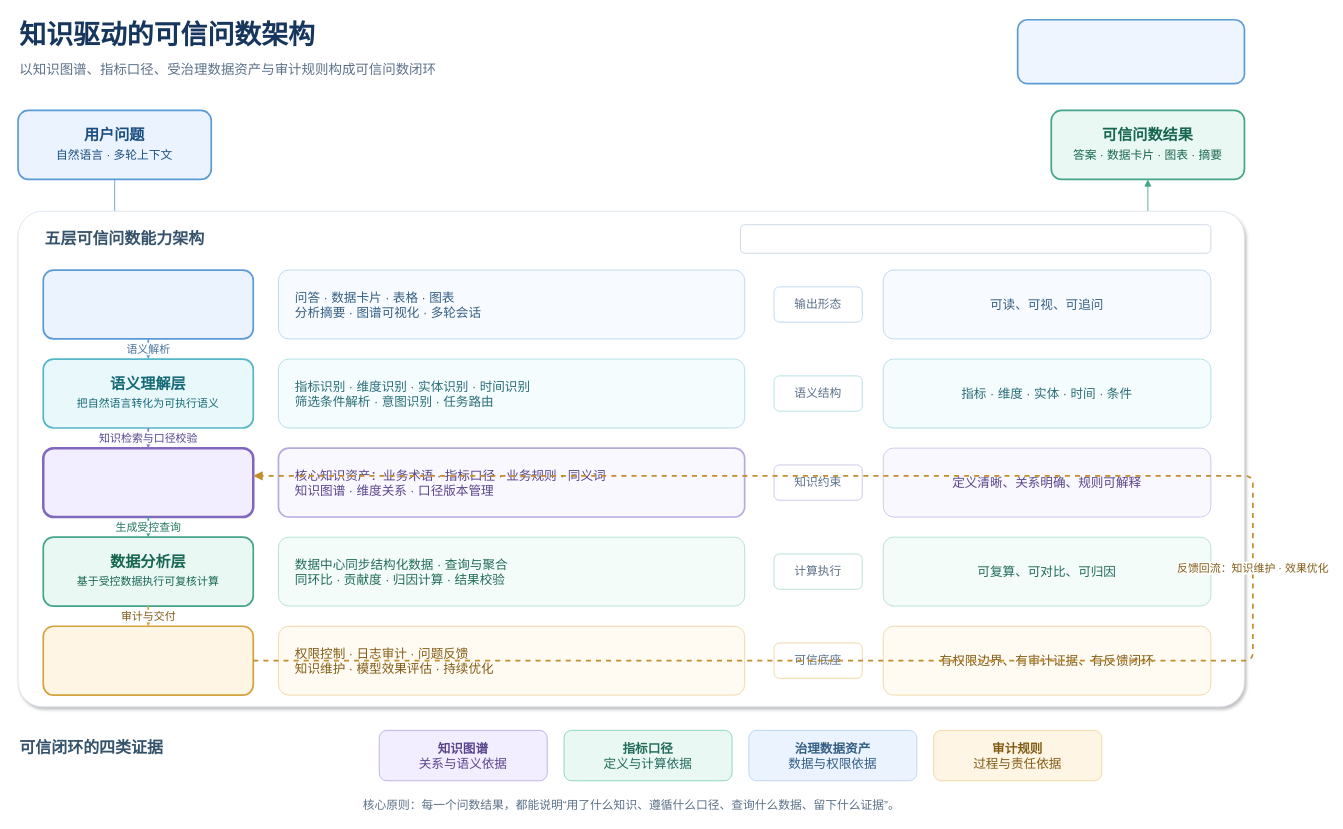
Image size: 1343x829. Some labels were removed from this diagram. The shapes that lost their labels are listed below. From the top down, each one's centre as x and y in pixels, then its label:
At (x=1130, y=51): "科学知识驱动 可解释 · 可验证 · 可追溯".
At (x=975, y=238): "主链路：问题理解 → 知识约束 → 数据计算 → 证据化交付".
At (x=148, y=304): "交互展示层 面向用户的可信交互入口".
At (x=148, y=482): "知识与指标层 可信问数的知识约束与口径核心".
At (x=148, y=660): "治理与运营层 · 横向底座 贯穿全流程的安全、审计与优化".
